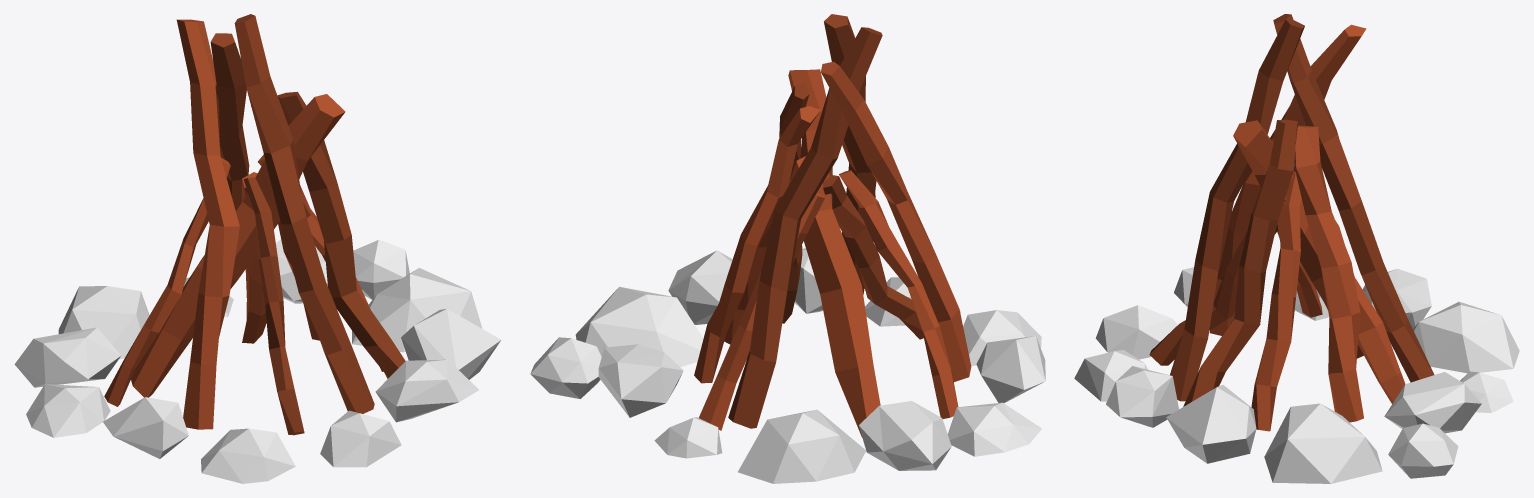
File: Capfire_001.FBX
3 views of the same model, side by side, from view 1: azimuth 30°, elevation 25°; view 2: azimuth 150°, elevation 25°; view 3: azimuth 270°, elevation 25° (orthographic). The views are drawn at different scales.
Visible parts, largest first — view 1: Cylinder030, Cylinder023, Cylinder032, Cylinder029, Cylinder024, GeoSphere071, GeoSphere072, GeoSphere066, Campfire, GeoSphere073, GeoSphere069, GeoSphere064 (+8 smaller); view 2: Campfire, Cylinder032, Cylinder030, GeoSphere069, GeoSphere071, Cylinder031, Cylinder025, GeoSphere072, GeoSphere074, Cylinder024, GeoSphere065, GeoSphere068 (+10 smaller); view 3: Cylinder023, Campfire, Cylinder031, Cylinder029, GeoSphere071, Cylinder026, GeoSphere069, GeoSphere073, Cylinder030, GeoSphere074, GeoSphere066, GeoSphere064 (+9 smaller).
Part boxes in pixels (box(x1,y1,x2,y2)): Cylinder030: box(176, 19, 239, 429); Cylinder023: box(234, 14, 374, 413); Cylinder032: box(131, 94, 345, 397); Cylinder029: box(277, 91, 405, 378); Cylinder024: box(243, 177, 304, 435); GeoSphere071: box(352, 268, 482, 352); GeoSphere072: box(14, 327, 121, 387); GeoSphere066: box(375, 359, 478, 422); Campfire: box(210, 33, 249, 210); GeoSphere073: box(401, 308, 500, 379); GeoSphere069: box(58, 286, 149, 359); GeoSphere064: box(201, 428, 295, 483); Campfire: box(728, 27, 882, 428); Cylinder032: box(788, 69, 880, 437); Cylinder030: box(821, 61, 971, 381); GeoSphere069: box(738, 409, 866, 483); GeoSphere071: box(575, 286, 703, 366); Cylinder031: box(694, 106, 820, 383); Cylinder025: box(839, 170, 958, 418); GeoSphere072: box(859, 401, 951, 470); GeoSphere074: box(598, 344, 683, 417); Cylinder024: box(823, 175, 923, 339); GeoSphere065: box(947, 402, 1041, 456); GeoSphere068: box(976, 336, 1045, 402); Cylinder023: box(1170, 19, 1304, 401); Campfire: box(1273, 14, 1434, 382); Cylinder031: box(1294, 125, 1363, 422); Cylinder029: box(1183, 119, 1297, 406); GeoSphere071: box(1264, 403, 1382, 483); Cylinder026: box(1251, 171, 1301, 431); GeoSphere069: box(1413, 301, 1519, 373); GeoSphere073: box(1166, 385, 1256, 463); Cylinder030: box(1209, 24, 1366, 335); GeoSphere074: box(1384, 372, 1481, 433); GeoSphere066: box(1106, 366, 1178, 427); GeoSphere064: box(1095, 305, 1177, 359).
Bounding box in the file's own units: 9.49 × 7.81 × 8.54.
